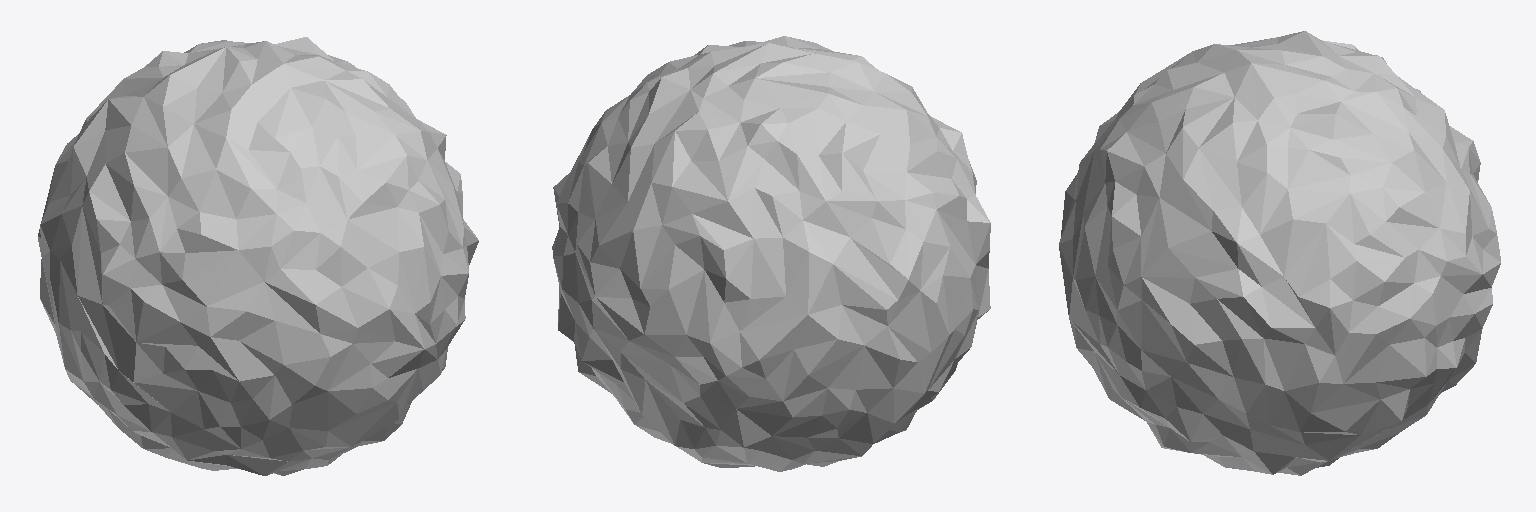
Rendered from venus.obj.
3 renders of one model, left to right at view 1: azimuth 30°, elevation 25°; view 2: azimuth 150°, elevation 25°; view 3: azimuth 270°, elevation 25°, orthographic.
Visible parts, largest first — view 1: Venus; view 2: Venus; view 3: Venus.
Part boxes in pixels (x1,y1,x2,y2): Venus: (38, 37, 478, 475); Venus: (552, 36, 990, 471); Venus: (1059, 31, 1500, 475).
Size of the model in its own units: 8.05 by 8.05 by 8.11.